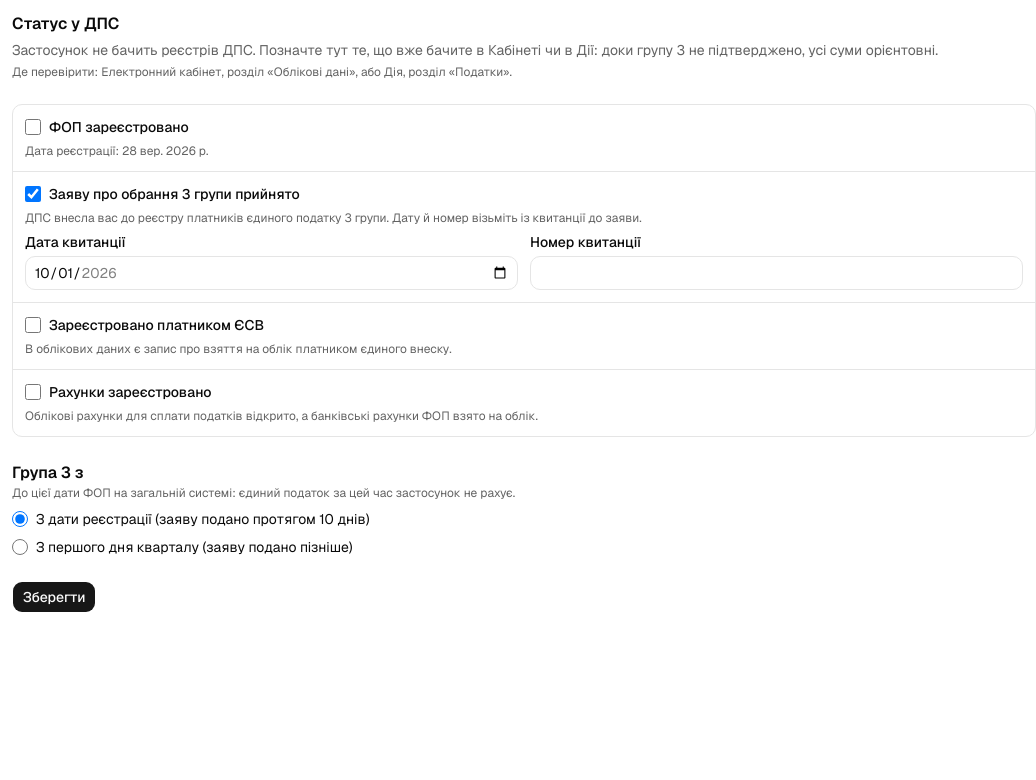
Test: DpsStatusSection › shows the server's rejection beside the receipt field in the owner's language
The width and height of the screenshot is (1036, 780).
Click the button "Зберегти" at (54, 597), box [12,581,96,613]
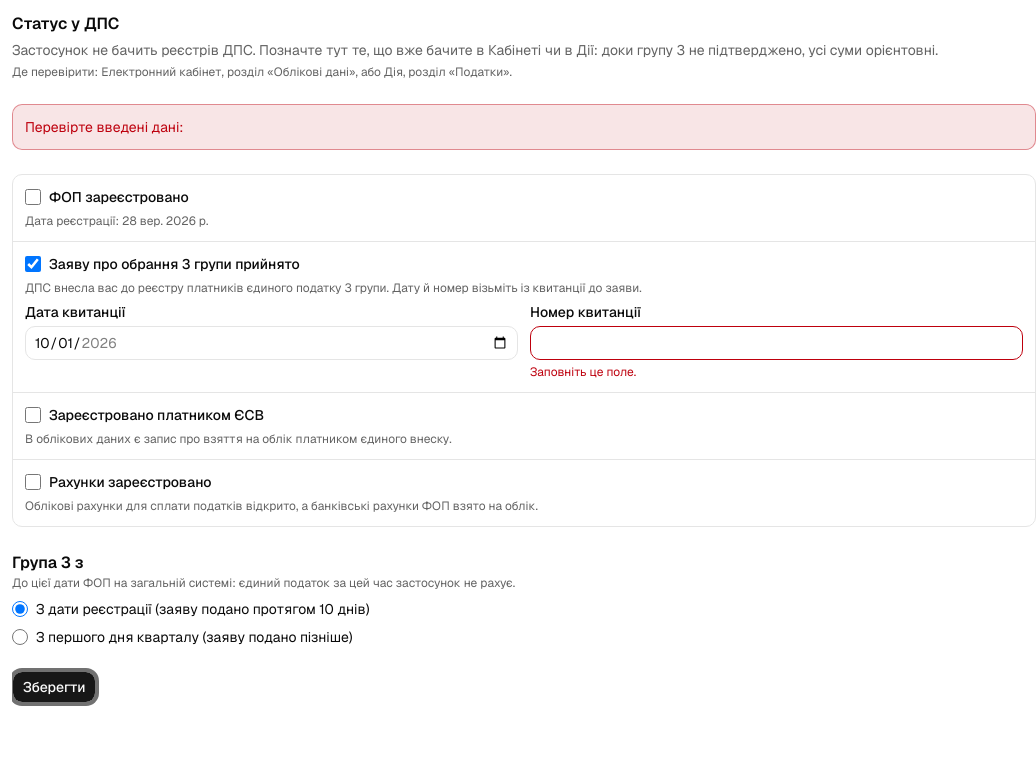
Expected: the text "Заповніть це поле." is shown, [530,364,636,380]
Expected: the text "Перевірте введені дані:" is shown, [12,104,1035,150]
